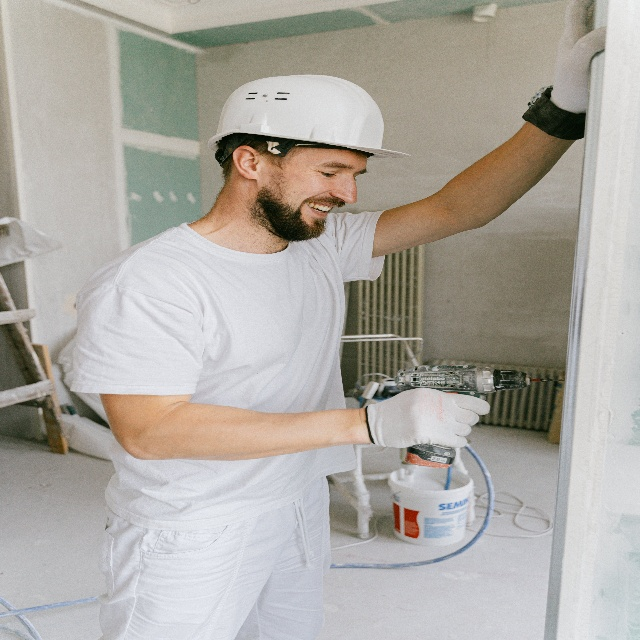Guantes: (521, 0, 608, 140), (365, 385, 491, 448)
